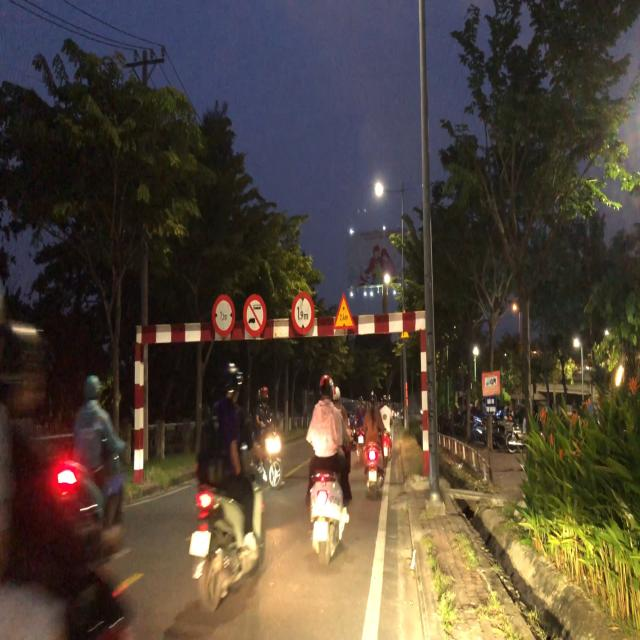Bien bao cam xe oto khach va xe oto tai: (242, 291, 269, 337)
Bien bao chieu cao tinh khong thuc te: (333, 289, 358, 335)
Bien bao han che chieu cao: (289, 290, 317, 344)
